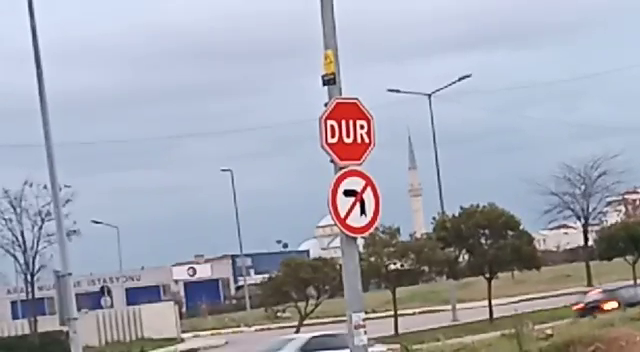no_left: (325, 164, 384, 240)
stop: (317, 95, 378, 169)
